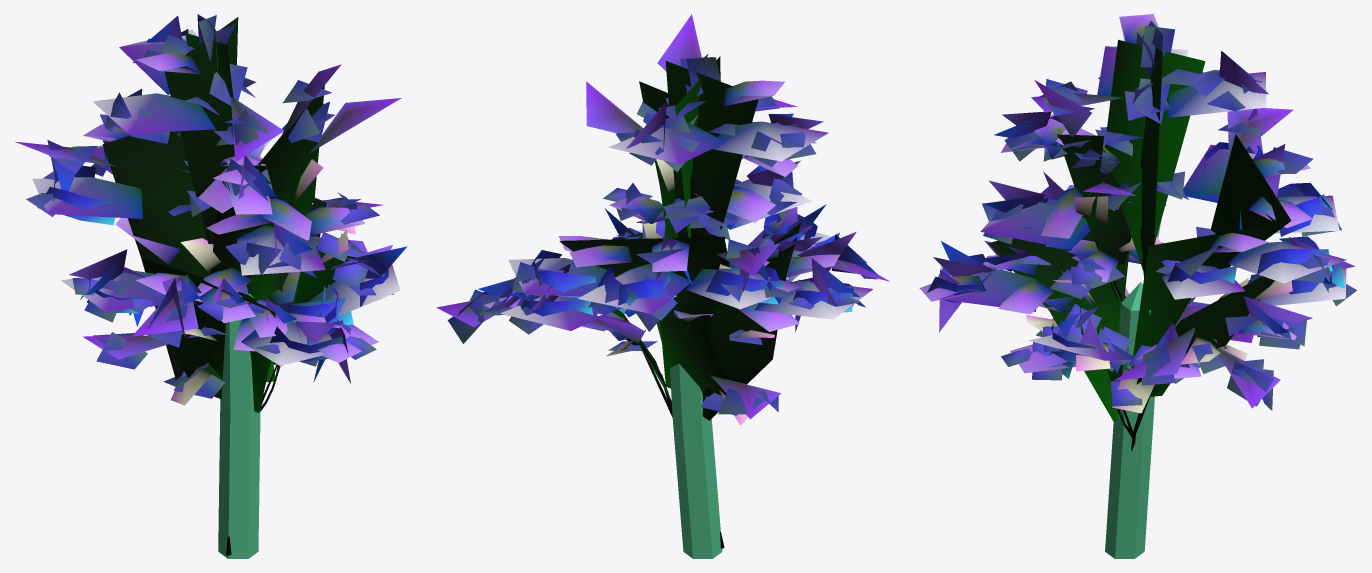
Rendered from tro_tree_2_tiny.dae.
3 views of the same model, side by side, from view 1: azimuth 30°, elevation 25°; view 2: azimuth 150°, elevation 25°; view 3: azimuth 270°, elevation 25° (orthographic). The views are drawn at different scales.
Parts seen in each view (by area): view 1: tree_oak_bush_a550, tree_oak_bush_a250, Colmesh-1; view 2: tree_oak_bush_a550, tree_oak_bush_a250, Colmesh-1; view 3: tree_oak_bush_a550, tree_oak_bush_a250, Colmesh-1.
Boxes of the visible parts, left/top/right/bottom form: tree_oak_bush_a550: left=15, top=14, right=401, bottom=555; tree_oak_bush_a250: left=43, top=14, right=407, bottom=554; Colmesh-1: left=218, top=293, right=260, bottom=558; tree_oak_bush_a550: left=436, top=14, right=889, bottom=548; tree_oak_bush_a250: left=447, top=53, right=877, bottom=420; Colmesh-1: left=670, top=363, right=722, bottom=558; tree_oak_bush_a550: left=919, top=14, right=1357, bottom=451; tree_oak_bush_a250: left=927, top=19, right=1355, bottom=450; Colmesh-1: left=1105, top=282, right=1154, bottom=558.
Bounding box in the file's own units: 5.57 × 5.74 × 7.49.
